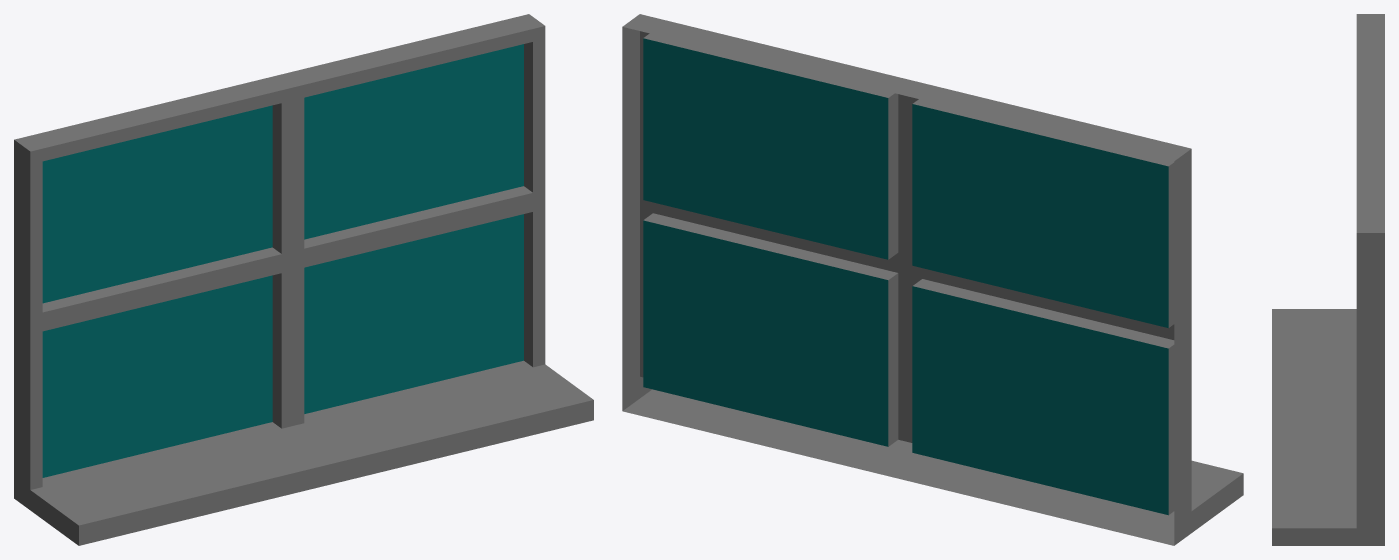
Rendered from Window.fbx.
3 renders of one model, left to right at view 1: azimuth 30°, elevation 25°; view 2: azimuth 150°, elevation 25°; view 3: azimuth 270°, elevation 25°, orthographic. The views are drawn at different scales.
Visible parts, largest first — view 1: Window; view 2: Window; view 3: Window.
Boxes of the visible parts, x1,y1,x2,y2 form: Window: (14,14,593,545); Window: (622,14,1243,545); Window: (1272,14,1384,545).
Bounding box in the file's own units: 0.6247 × 0.416 × 0.1361.
